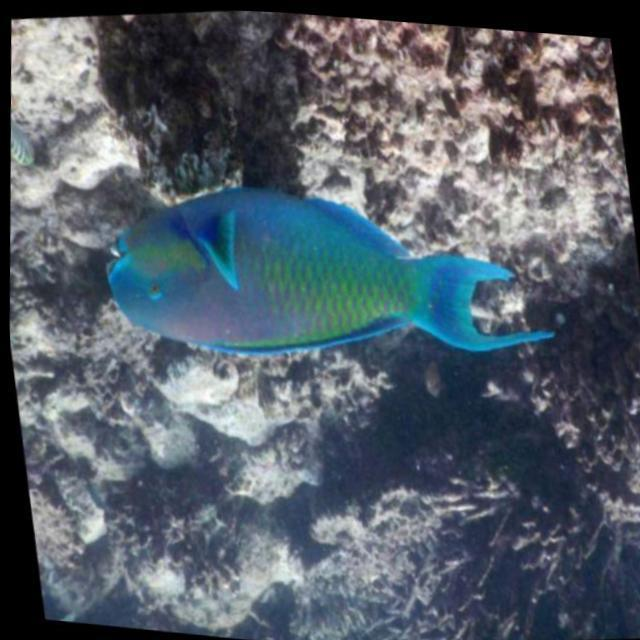Dead Coral: (379, 270, 640, 640)
